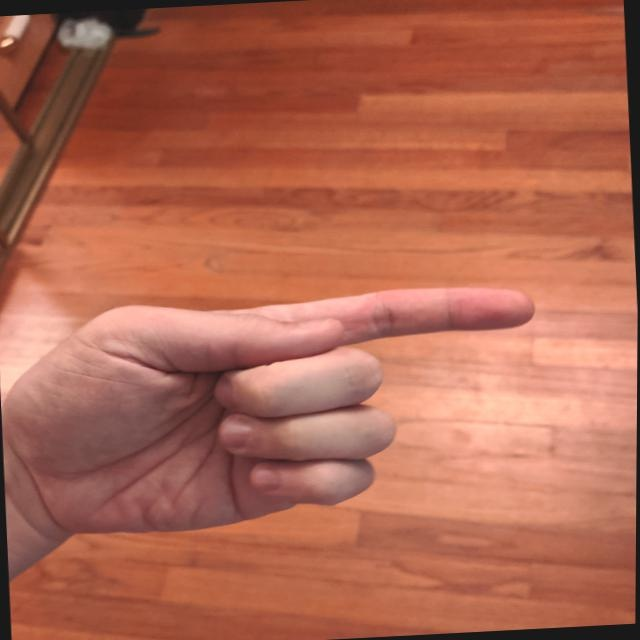G: (0, 275, 555, 549)
